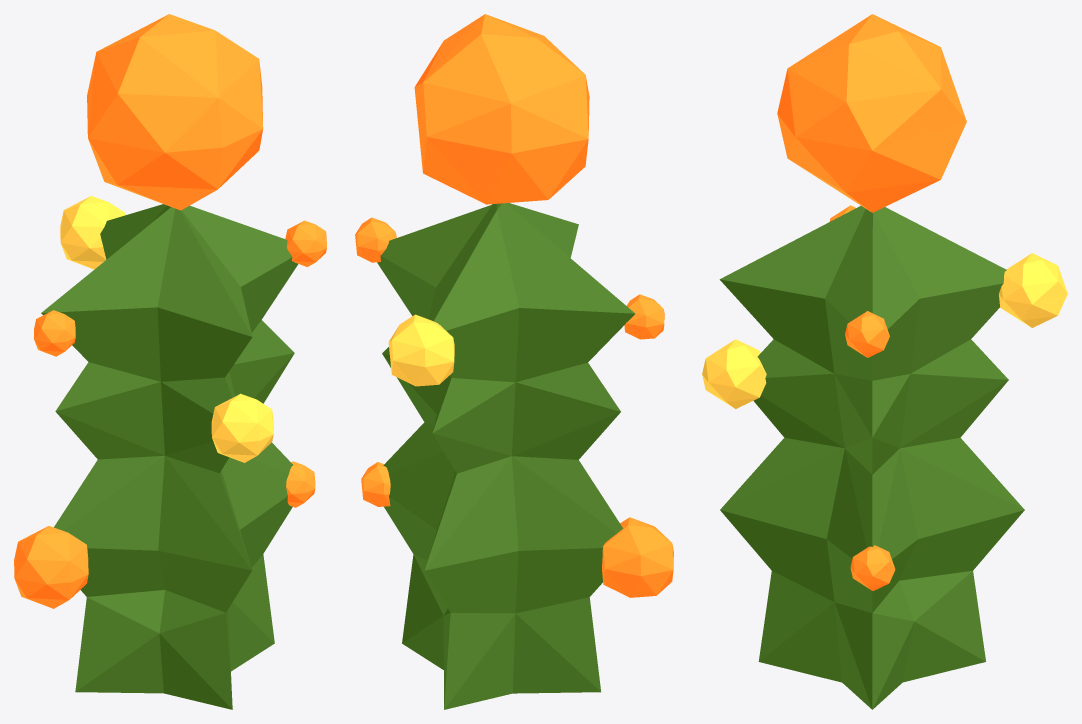
Rendered from first-jungle-plant.fbx.
3 views of the same model, side by side, from view 1: azimuth 30°, elevation 25°; view 2: azimuth 150°, elevation 25°; view 3: azimuth 270°, elevation 25° (orthographic).
Parts seen in each view (by area): view 1: Cylinder; view 2: Cylinder; view 3: Cylinder.
Boxes of the visible parts, x1=… form: Cylinder: x1=14, y1=14, x2=326, y2=709; Cylinder: x1=355, y1=14, x2=673, y2=709; Cylinder: x1=702, y1=14, x2=1067, y2=709.
Size of the model in its own units: 378 by 744 by 384.
